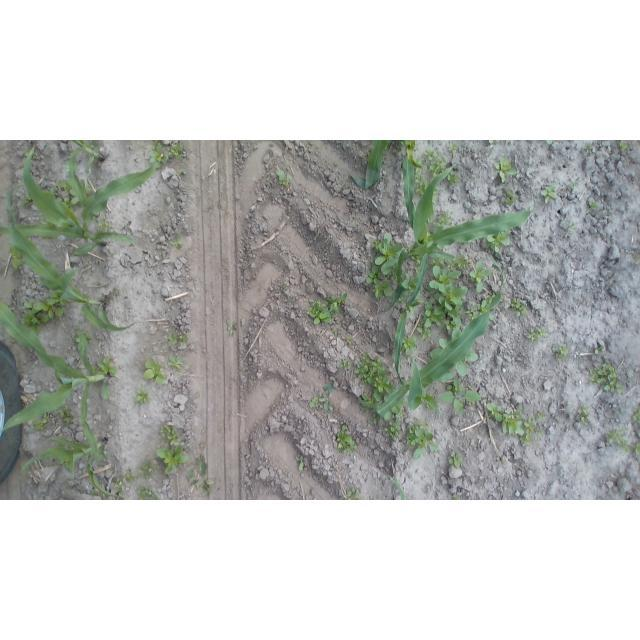Maize: (384, 150, 536, 308), (360, 277, 508, 419), (4, 180, 139, 332), (1, 145, 162, 260), (0, 299, 112, 460), (17, 433, 123, 499), (392, 251, 428, 383), (65, 140, 107, 204), (350, 140, 391, 190), (398, 141, 426, 170), (384, 476, 405, 501)
Weeds: (428, 329, 479, 388), (424, 265, 469, 329), (353, 351, 395, 402), (437, 376, 483, 417), (20, 293, 65, 332), (485, 401, 526, 440), (369, 231, 403, 278), (403, 419, 440, 461), (306, 291, 349, 327), (587, 360, 626, 396), (154, 444, 190, 479), (519, 410, 548, 450), (186, 454, 214, 494), (365, 266, 396, 301), (333, 418, 359, 454), (468, 257, 491, 295), (494, 154, 518, 183), (320, 380, 339, 413), (143, 358, 167, 384), (147, 140, 168, 168), (485, 233, 511, 254), (158, 424, 182, 445), (430, 211, 451, 234), (72, 328, 93, 350), (401, 273, 418, 300), (604, 426, 629, 444), (426, 154, 447, 175), (540, 182, 558, 206), (96, 356, 117, 376), (168, 354, 189, 374), (465, 299, 487, 318), (400, 336, 419, 358), (9, 245, 24, 272), (524, 327, 547, 344), (136, 484, 160, 500), (577, 400, 591, 427), (139, 457, 156, 479), (167, 331, 189, 348), (502, 188, 521, 207), (133, 388, 151, 407), (275, 168, 293, 187), (57, 404, 74, 424), (510, 297, 527, 316), (453, 252, 471, 269), (168, 143, 185, 160), (552, 343, 568, 361), (417, 322, 432, 341), (385, 421, 399, 441), (224, 316, 238, 336), (448, 450, 463, 468), (124, 466, 139, 484), (618, 442, 640, 454), (168, 234, 184, 250), (428, 259, 451, 270), (32, 419, 49, 433), (294, 454, 306, 473), (346, 488, 365, 500), (415, 167, 426, 185), (447, 169, 460, 183), (97, 218, 111, 231), (592, 344, 606, 357), (424, 150, 439, 162), (338, 356, 350, 370), (57, 178, 70, 190), (632, 409, 640, 427), (417, 182, 426, 197), (618, 141, 630, 152), (586, 201, 598, 211), (63, 461, 73, 473), (446, 143, 459, 152), (567, 220, 578, 230), (329, 327, 339, 338), (584, 145, 594, 155), (309, 398, 318, 409), (114, 478, 123, 489), (570, 179, 578, 189), (344, 337, 352, 345), (90, 488, 98, 496), (546, 141, 555, 148), (487, 140, 501, 144), (115, 290, 122, 297), (179, 169, 187, 175), (203, 207, 210, 213), (217, 203, 223, 210), (451, 495, 459, 500)
